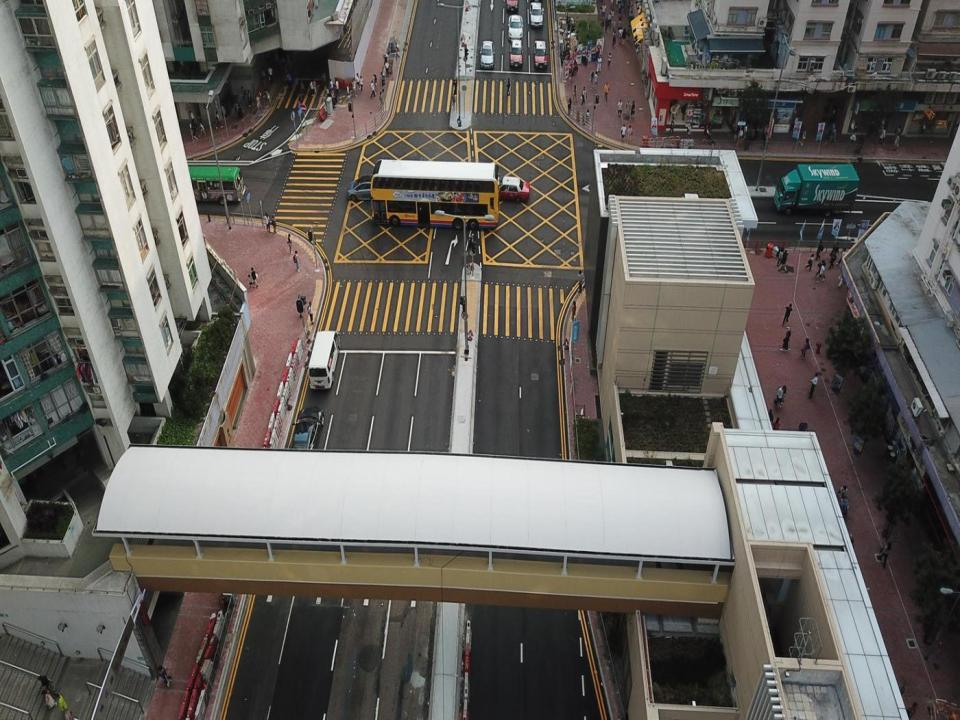bus: (370, 160, 499, 228), (170, 165, 243, 203)
car: (289, 407, 324, 465), (489, 176, 531, 201), (347, 176, 383, 200), (479, 41, 495, 70), (508, 13, 523, 42), (528, 1, 544, 26), (510, 38, 523, 68), (534, 41, 547, 70), (506, 0, 519, 11)
truck: (774, 164, 859, 216)
van: (307, 331, 340, 388)
